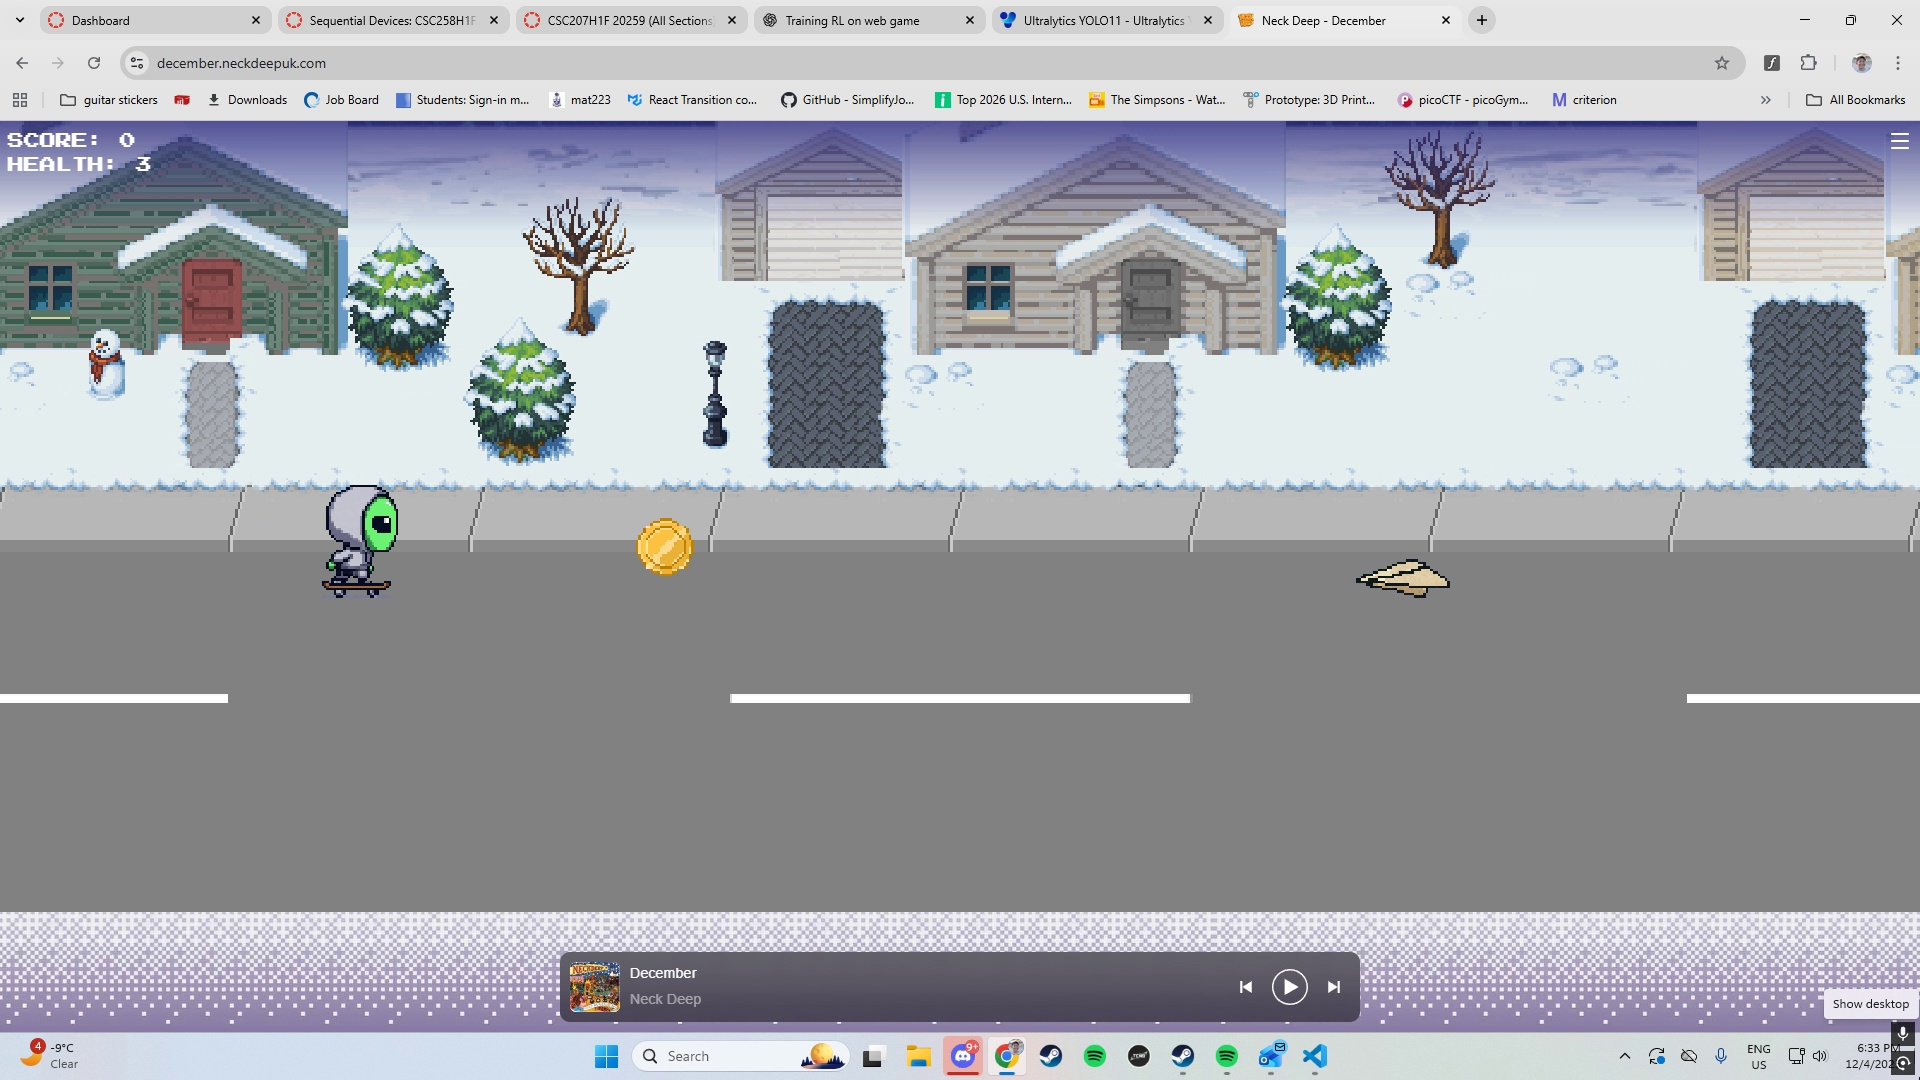Coin: (632, 516, 698, 580)
Plane: (1349, 554, 1453, 604)
